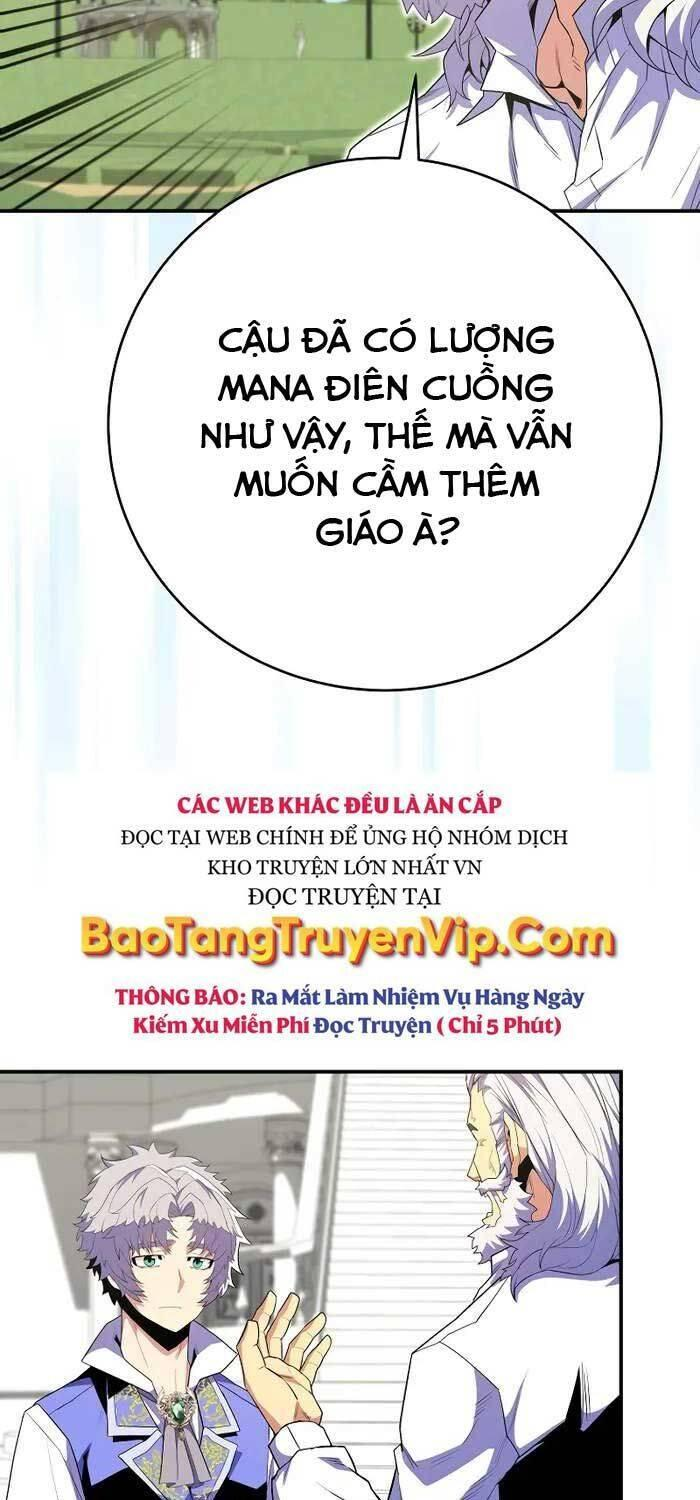quangcao: (68, 786, 624, 1044)
